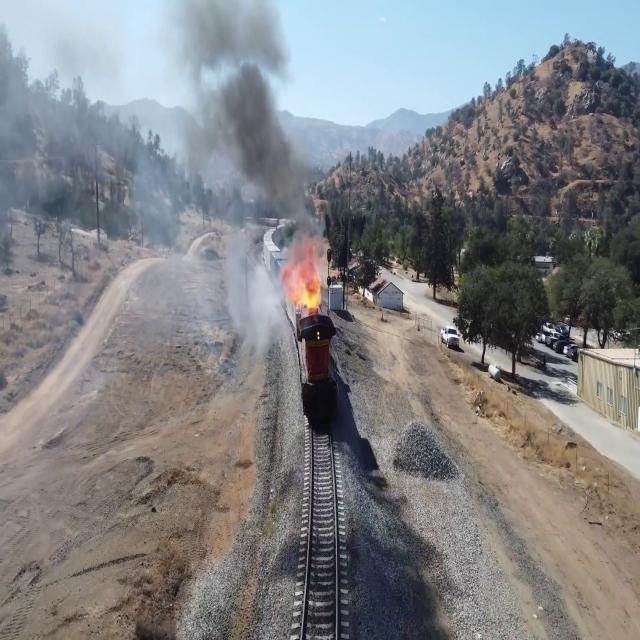Fire: (284, 258, 325, 322)
Smoke: (199, 52, 296, 209)
